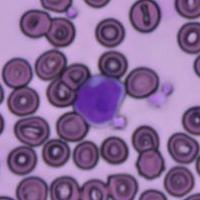M: (73, 74, 127, 128)
